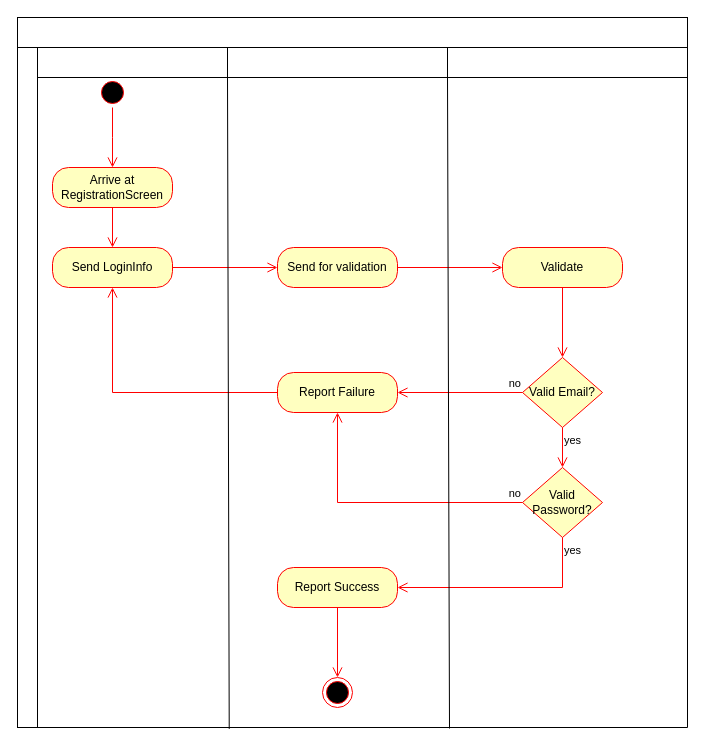
The diagram is 705 pixels wide and 748 high, and some of its shapes have lost their labels. Here are the shapes that lost their labels. From the top down, the box of each, then its label:
(16, 16, 688, 48): Registration
(36, 46, 228, 78): User
(226, 46, 448, 78): RegistrationScreen
(446, 46, 688, 78): Validator
